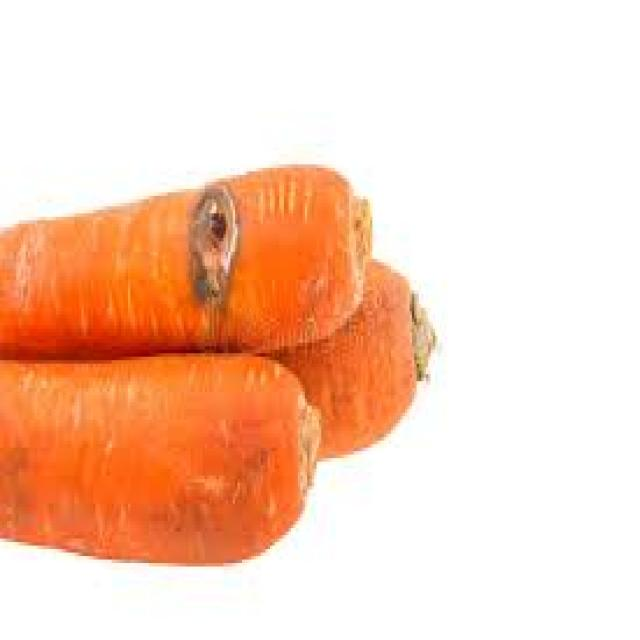Stale_Carrot: (0, 167, 371, 357), (0, 355, 320, 563)
